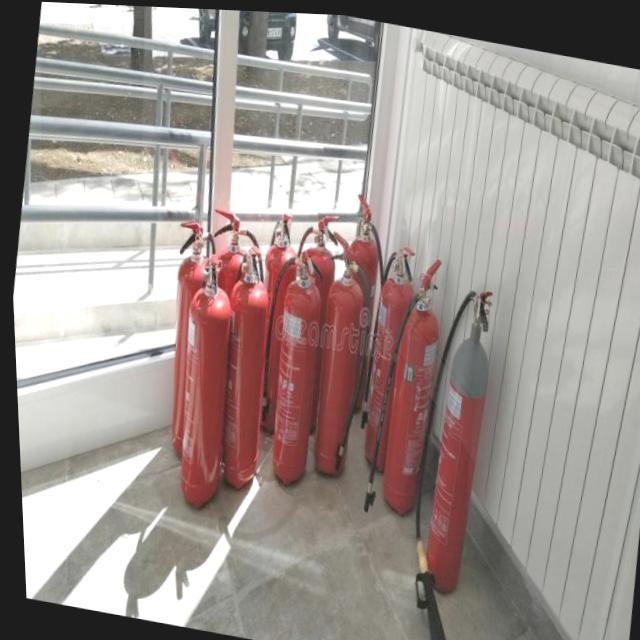FireExtinguisher: (378, 272, 511, 640), (346, 241, 456, 526), (174, 200, 286, 472), (237, 230, 341, 496), (153, 240, 253, 514), (143, 207, 239, 468), (195, 233, 287, 496), (293, 224, 384, 484), (313, 184, 405, 432), (342, 236, 427, 474), (233, 201, 316, 444), (266, 200, 349, 432)
